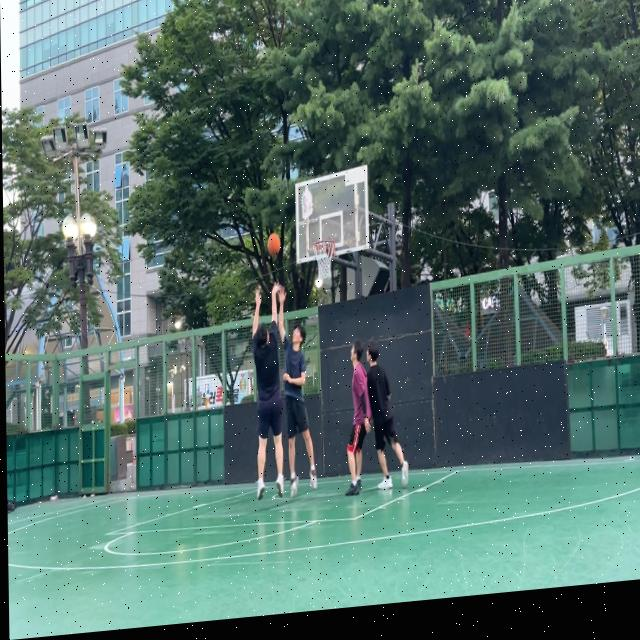basketball: (267, 232, 281, 257)
hoop: (313, 239, 335, 281)
